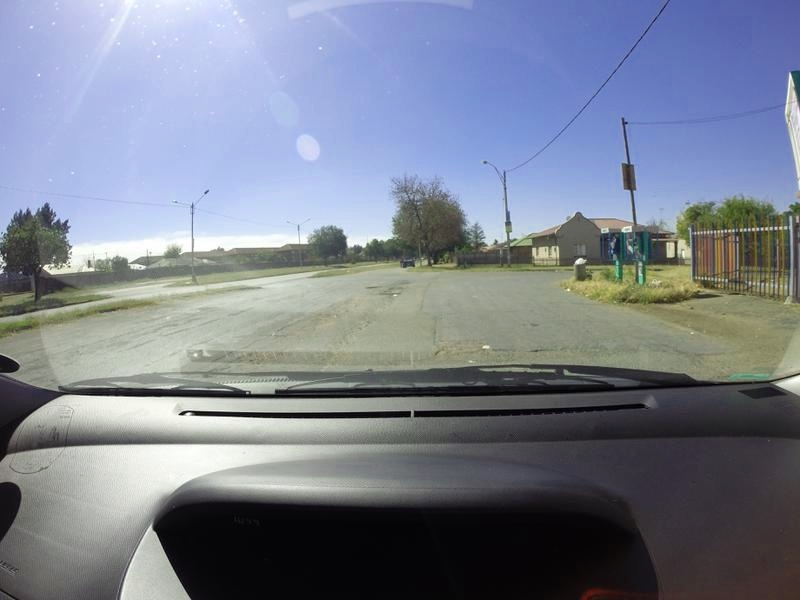pothole: (277, 317, 308, 333), (441, 342, 469, 354), (530, 344, 558, 351), (378, 291, 401, 295), (365, 283, 380, 289), (529, 320, 541, 327)
